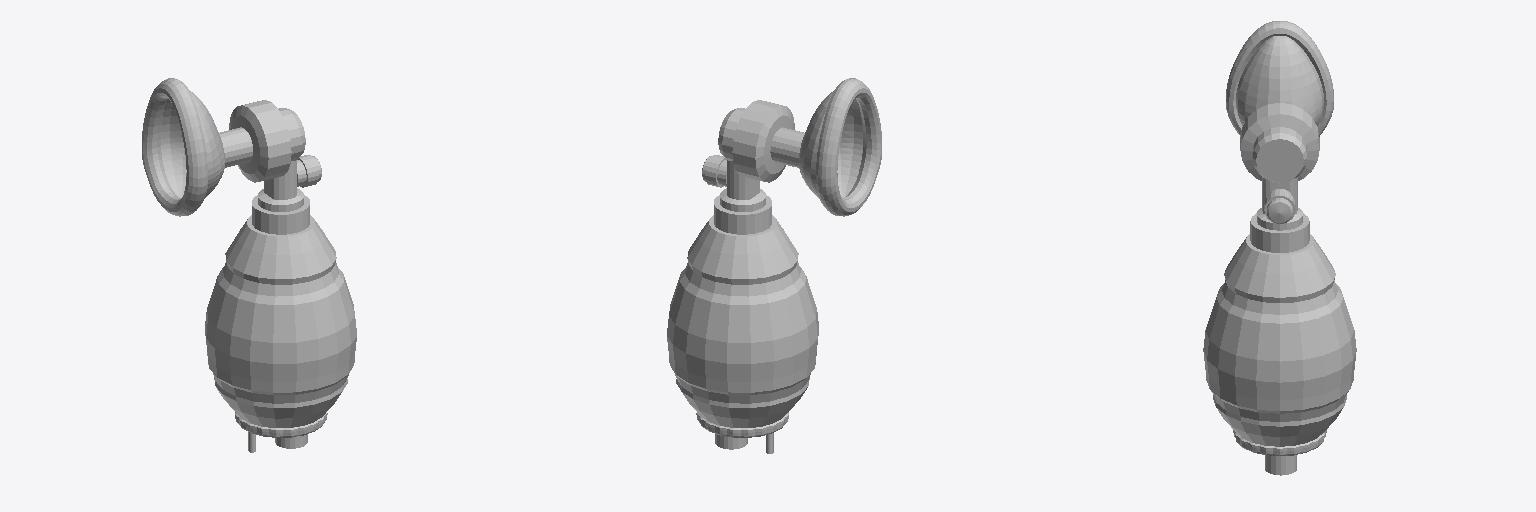
Rendered from maschera.obj.
3 views of the same model, side by side, from view 1: azimuth 30°, elevation 25°; view 2: azimuth 150°, elevation 25°; view 3: azimuth 270°, elevation 25° (orthographic).
Visible parts, largest first — view 1: Modello_Finale3; view 2: Modello_Finale3; view 3: Modello_Finale3.
Part boxes in pixels (x1,y1,x2,y2): Modello_Finale3: (142, 78, 356, 452); Modello_Finale3: (667, 78, 881, 453); Modello_Finale3: (1203, 21, 1356, 475).
Size of the model in its own units: 7.66 by 15.63 by 5.57.